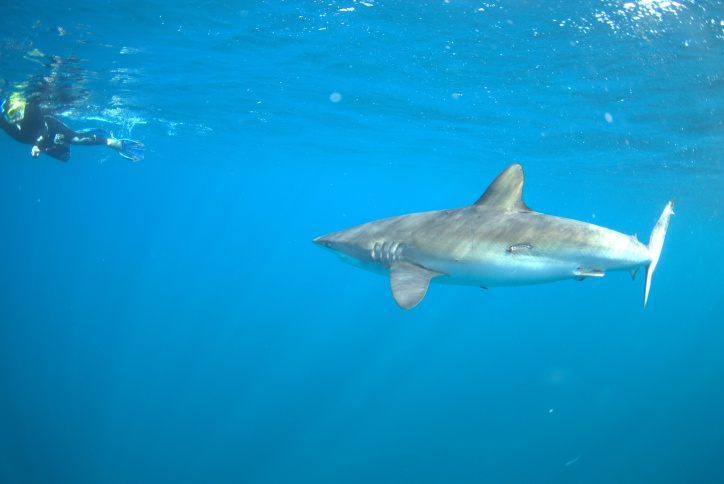Sedoso: (304, 160, 681, 329)
